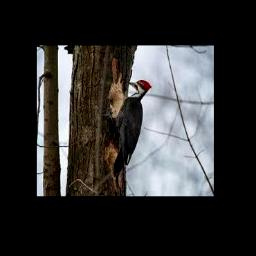Woodpecker: (107, 80, 152, 189)
